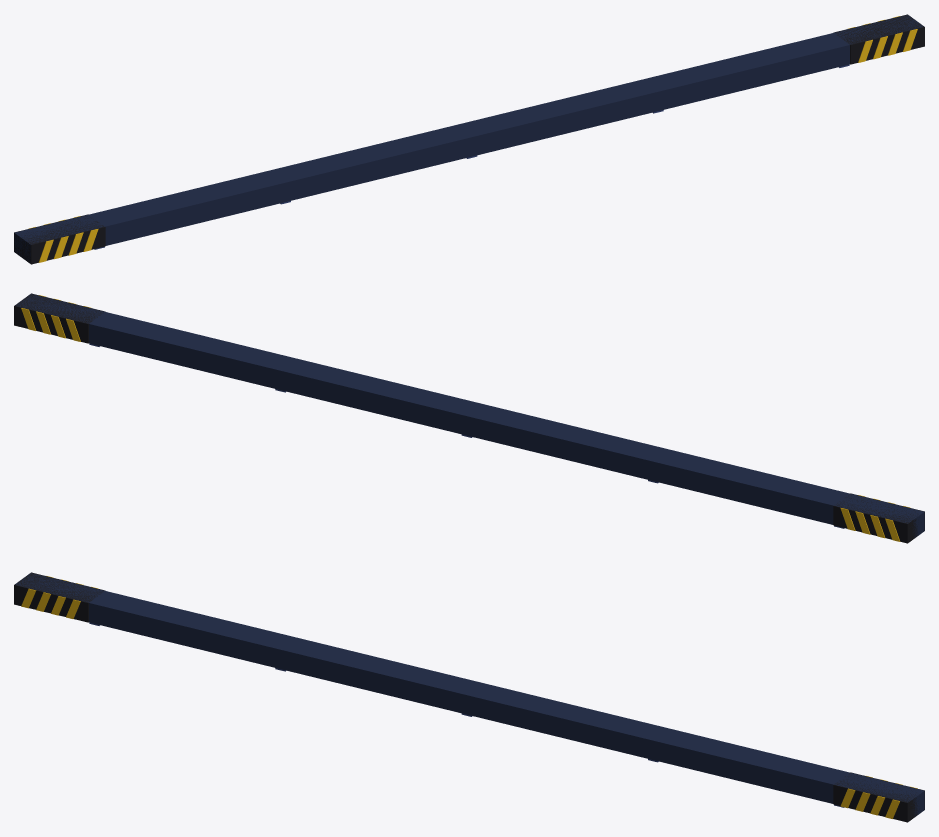
File: gate_beam.glb
The picture shows the model from 3 angles, top to bottom: view 1: azimuth 30°, elevation 25°; view 2: azimuth 150°, elevation 25°; view 3: azimuth 330°, elevation 25°; orthographic projection.
Parts seen in each view (by area): view 1: gate_beam; view 2: gate_beam; view 3: gate_beam.
Part boxes in pixels (<box>): gate_beam: <box>14,14,924,264</box>; gate_beam: <box>14,293,924,543</box>; gate_beam: <box>14,572,924,822</box>.
Bounding box in the file's own units: 14.4 × 0.4 × 0.5.
Materials: 1 (1 with a texture image).
